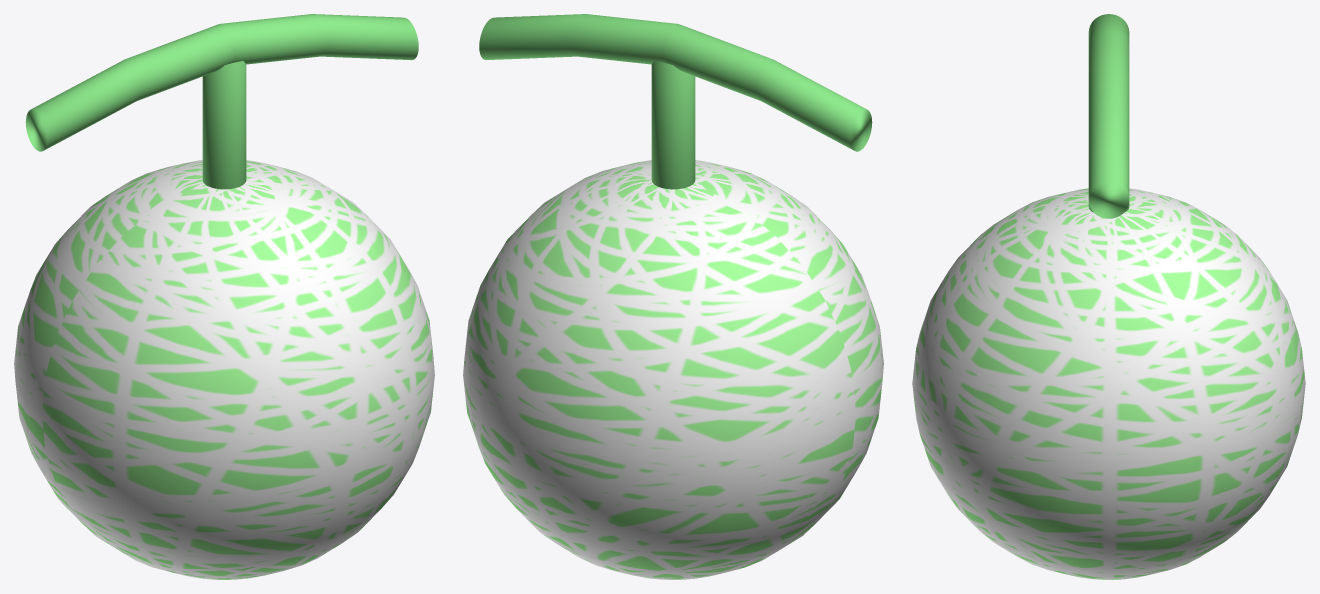
The model's file is Melon.fbx.
The picture shows the model from 3 angles, left to right: view 1: azimuth 30°, elevation 25°; view 2: azimuth 150°, elevation 25°; view 3: azimuth 270°, elevation 25°; orthographic projection. The views are drawn at different scales.
Visible parts, largest first — view 1: 球, 円柱.001, 円柱; view 2: 球, 円柱.001, 円柱; view 3: 球, 円柱.001.
Boxes of the visible parts, x1,y1,x2,y2 form: 球: [14, 160, 434, 579]; 円柱.001: [25, 14, 418, 151]; 円柱: [202, 61, 246, 189]; 球: [463, 160, 883, 579]; 円柱.001: [479, 14, 872, 151]; 円柱: [651, 61, 695, 189]; 球: [912, 188, 1305, 579]; 円柱.001: [1088, 14, 1129, 218].
Bounding box in the file's own units: 203 × 280 × 200.
